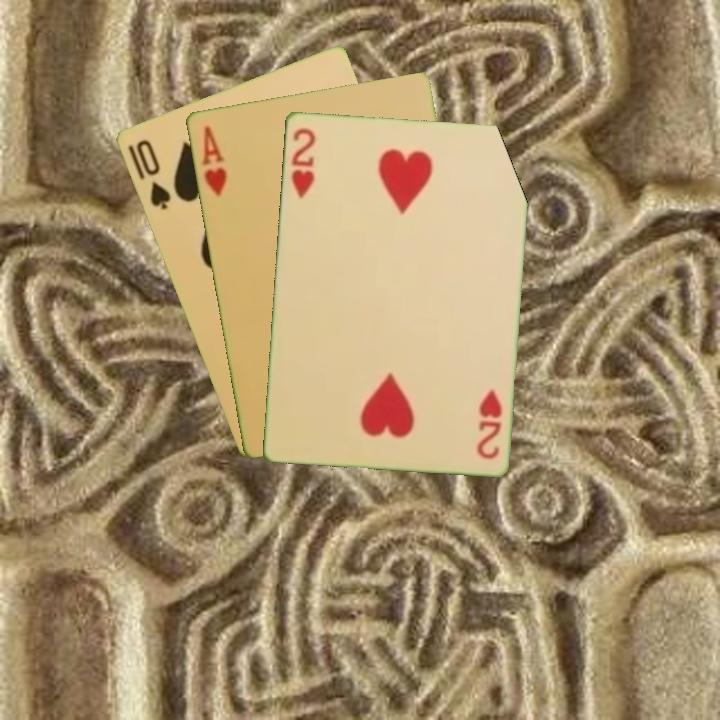10s: (123, 135, 173, 213)
2h: (473, 386, 505, 461), (288, 124, 318, 201)
Ah: (197, 122, 230, 200)
